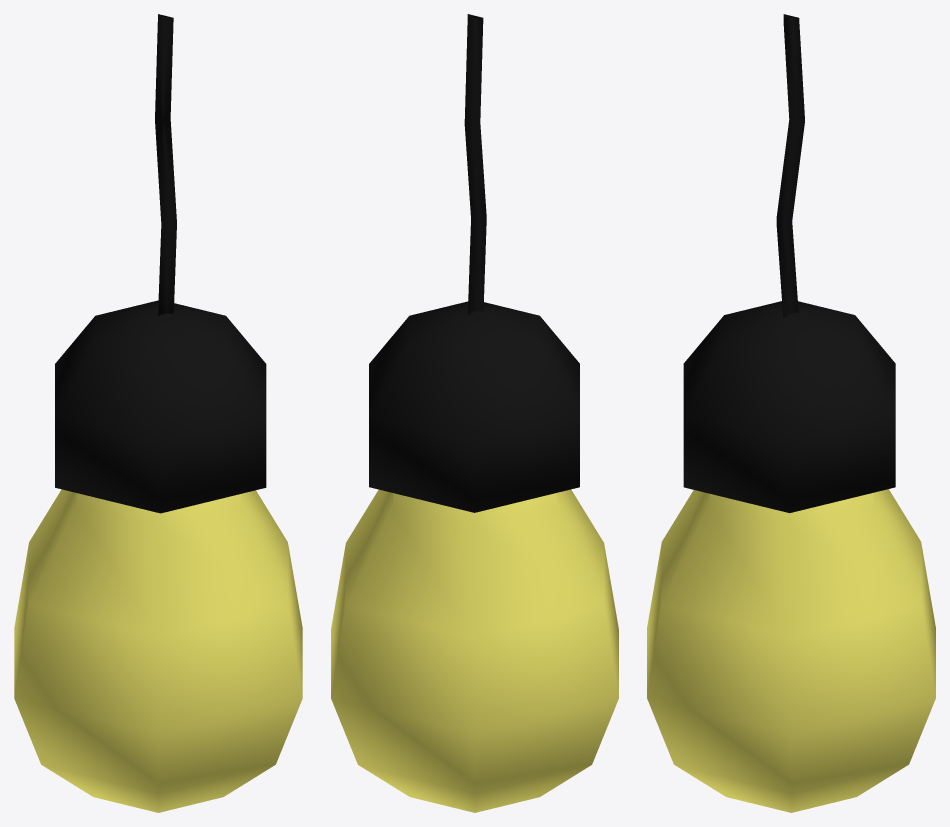
Rendered from bulb.fbx.
3 renders of one model, left to right at view 1: azimuth 30°, elevation 25°; view 2: azimuth 150°, elevation 25°; view 3: azimuth 270°, elevation 25°, orthographic.
Parts seen in each view (by area): view 1: Sphere, Sphere_001, Cylinder; view 2: Sphere, Sphere_001, Cylinder; view 3: Sphere, Sphere_001, Cylinder.
Part boxes in pixels (left/top/right/bottom): Sphere: left=14, top=489, right=302, bottom=812; Sphere_001: left=55, top=300, right=266, bottom=513; Cylinder: left=155, top=14, right=176, bottom=315; Sphere: left=331, top=489, right=618, bottom=812; Sphere_001: left=369, top=301, right=579, bottom=512; Cylinder: left=464, top=14, right=486, bottom=314; Sphere: left=647, top=489, right=935, bottom=812; Sphere_001: left=683, top=301, right=895, bottom=513; Cylinder: left=776, top=14, right=804, bottom=317.
Bounding box in the file's own units: 192 × 496 × 166.
